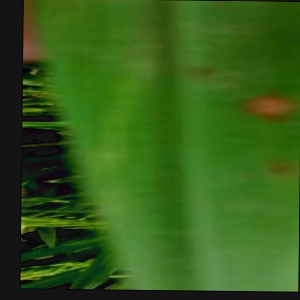Brown_Spot: (237, 66, 300, 129)
